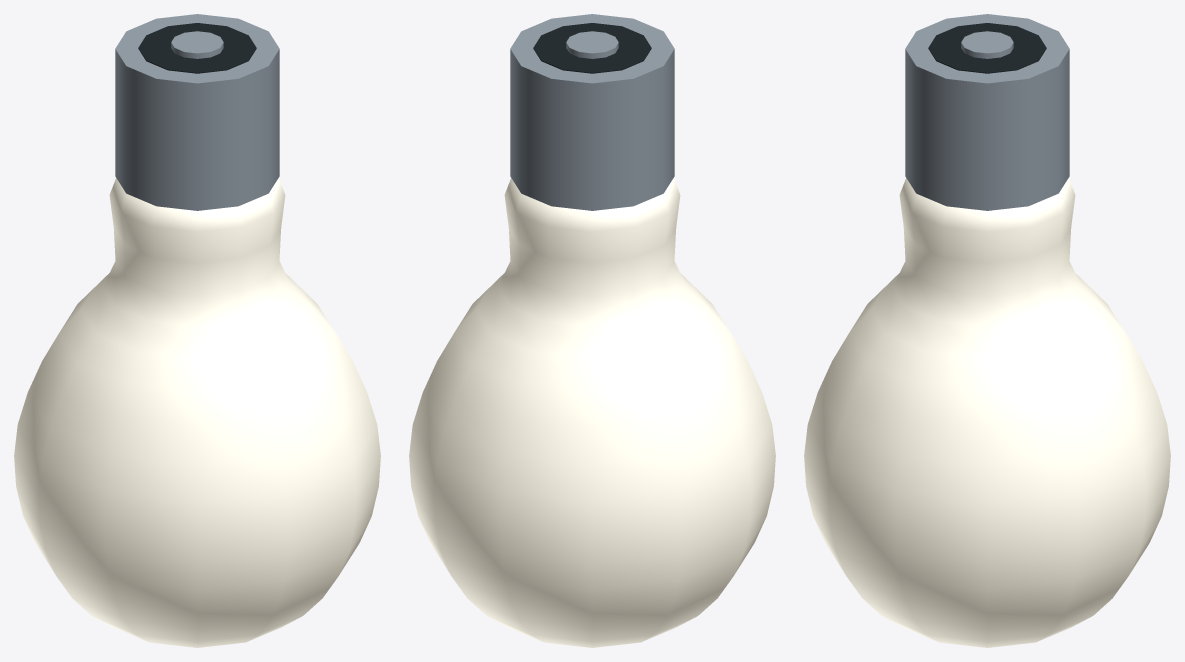
File: source.glb
3 renders of one model, left to right at view 1: azimuth 30°, elevation 25°; view 2: azimuth 150°, elevation 25°; view 3: azimuth 270°, elevation 25°, orthographic.
Parts seen in each view (by area): view 1: Emitters, 机加工金属, 密封及绝缘件; view 2: Emitters, 机加工金属, 密封及绝缘件; view 3: Emitters, 机加工金属, 密封及绝缘件.
Boxes of the visible parts, bbox=[...] form: Emitters: bbox=[14, 178, 380, 647]; 机加工金属: bbox=[115, 14, 279, 210]; 密封及绝缘件: bbox=[138, 23, 256, 73]; Emitters: bbox=[409, 178, 775, 647]; 机加工金属: bbox=[510, 14, 674, 210]; 密封及绝缘件: bbox=[533, 23, 651, 73]; Emitters: bbox=[804, 178, 1170, 647]; 机加工金属: bbox=[905, 14, 1069, 210]; 密封及绝缘件: bbox=[928, 23, 1046, 73].
Bounding box in the file's own units: 0.0602 × 0.1062 × 0.0602.
